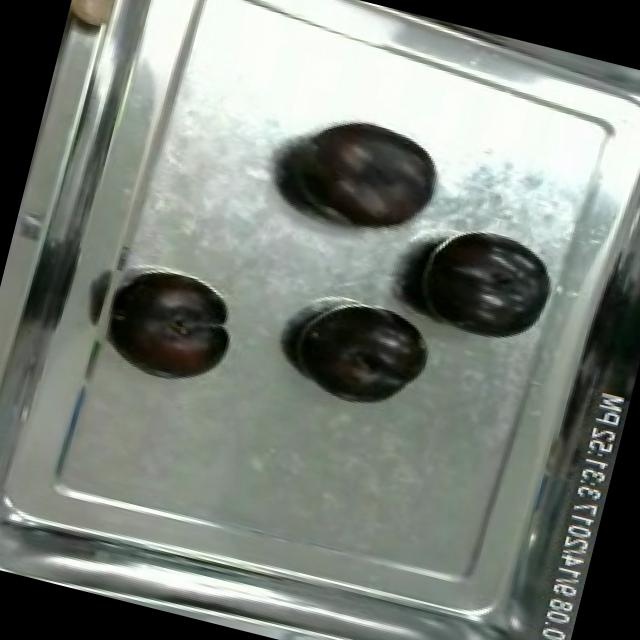Fruit: (266, 99, 452, 249), (399, 214, 565, 356), (278, 285, 440, 422), (94, 264, 244, 394), (63, 0, 140, 42)
